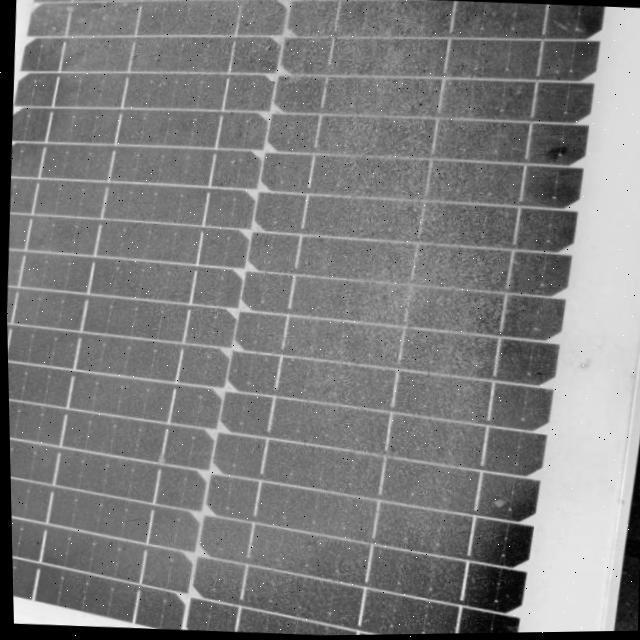Anomaly Solar Panel: (0, 0, 626, 640)
Surface Contaminant: (5, 0, 608, 620)
